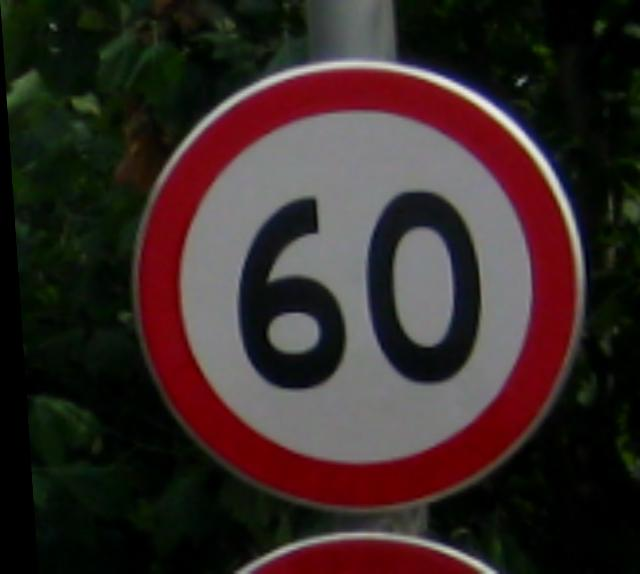limit60: (115, 54, 598, 508)
